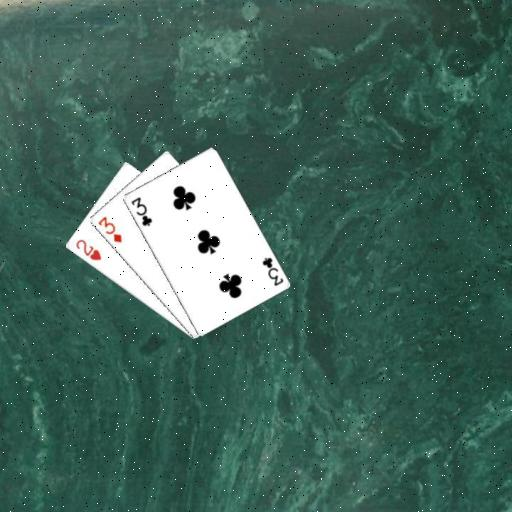2H: (73, 236, 103, 262)
3C: (128, 194, 154, 228), (259, 254, 285, 288)
3D: (95, 214, 123, 244)
